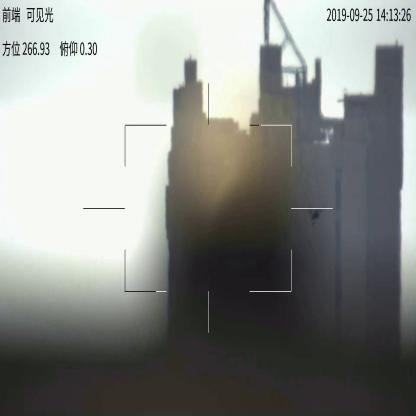uav: (306, 204, 324, 227)
